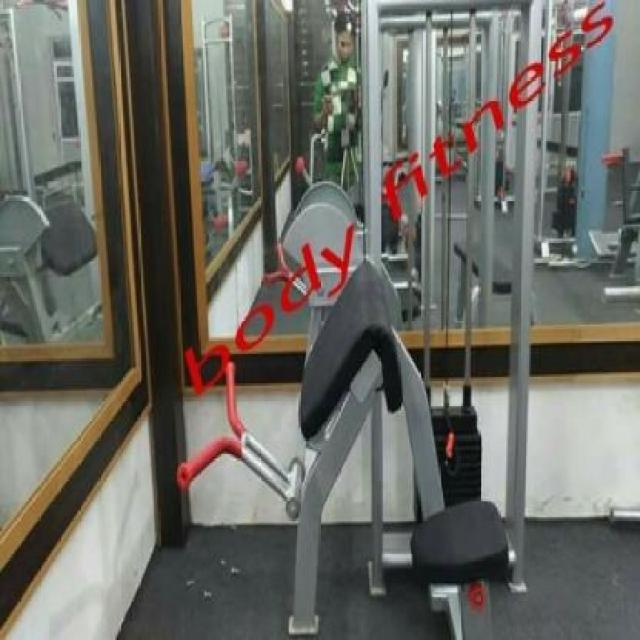arm curl machine: (174, 255, 534, 640)
